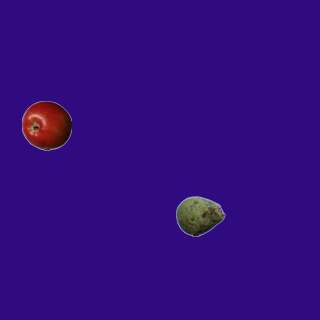Apple Braeburn: (21, 100, 71, 150)
Pear Stone: (175, 191, 225, 241)
